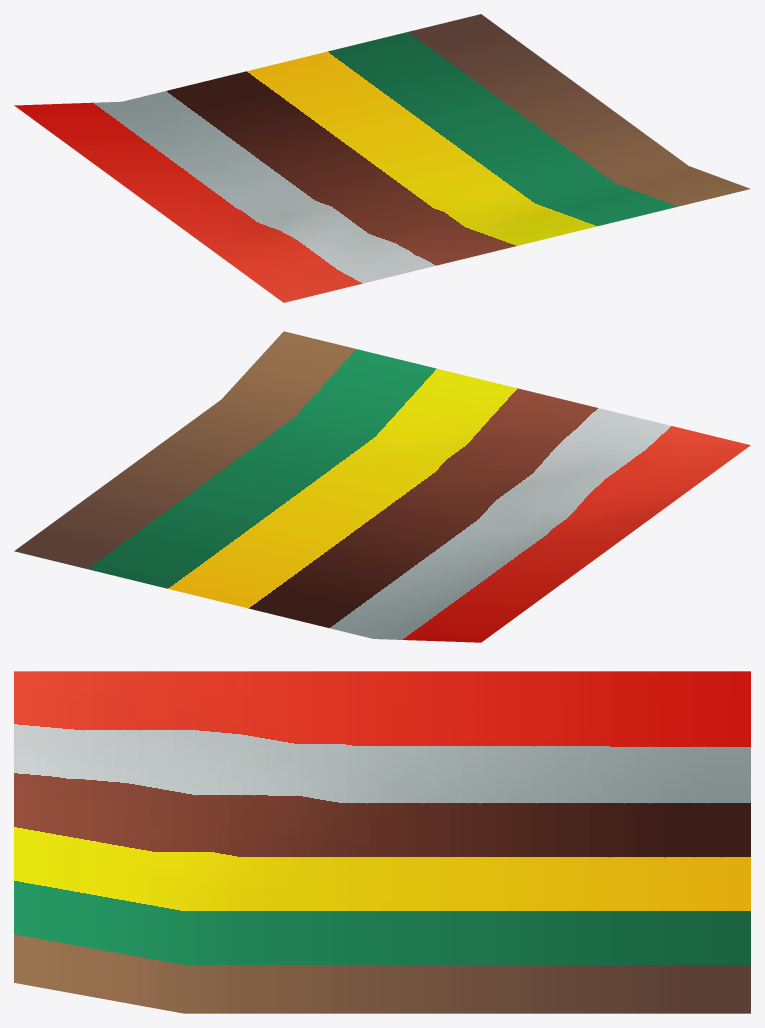
The model's file is m_bg_beach_01.fbx.
3 views of the same model, one above another, from view 1: azimuth 30°, elevation 25°; view 2: azimuth 150°, elevation 25°; view 3: azimuth 270°, elevation 25° (orthographic). The views are drawn at different scales.
Parts seen in each view (by area): view 1: m_bg_beach_01; view 2: m_bg_beach_01; view 3: m_bg_beach_01.
Boxes of the visible parts, x1,y1,x2,y2 form: m_bg_beach_01: [14, 14, 750, 302]; m_bg_beach_01: [14, 331, 750, 642]; m_bg_beach_01: [14, 671, 750, 1013].
Size of the model in its own units: 6500 by 300 by 6500.
